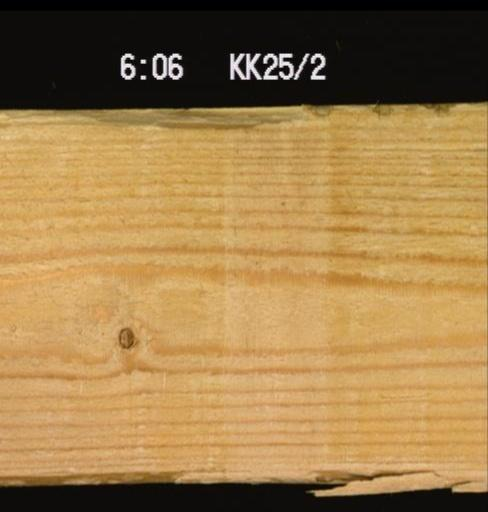dry_knot: (114, 322, 133, 348)
wave: (0, 107, 328, 130), (0, 455, 240, 483), (303, 455, 486, 481)
